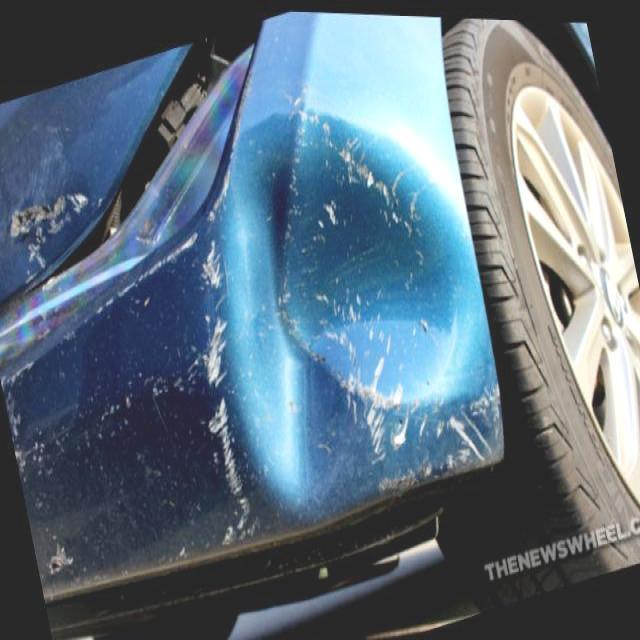minor: (9, 196, 106, 288), (207, 401, 261, 544), (201, 240, 227, 396)
moderate: (218, 111, 493, 519)
